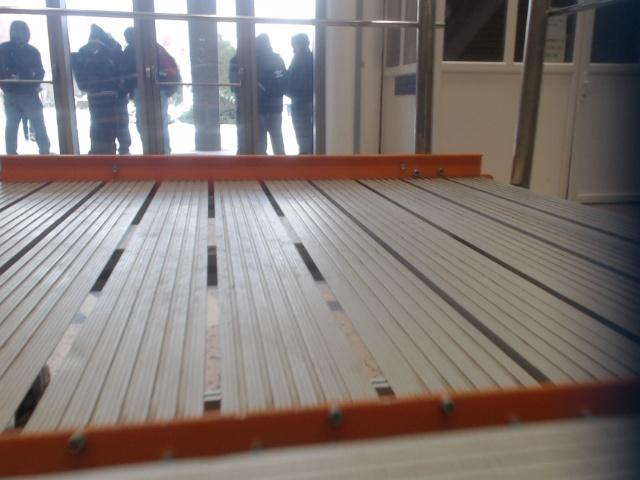rampDown: (0, 154, 639, 479)
ramps-railing: (0, 0, 436, 152), (507, 0, 548, 188)
